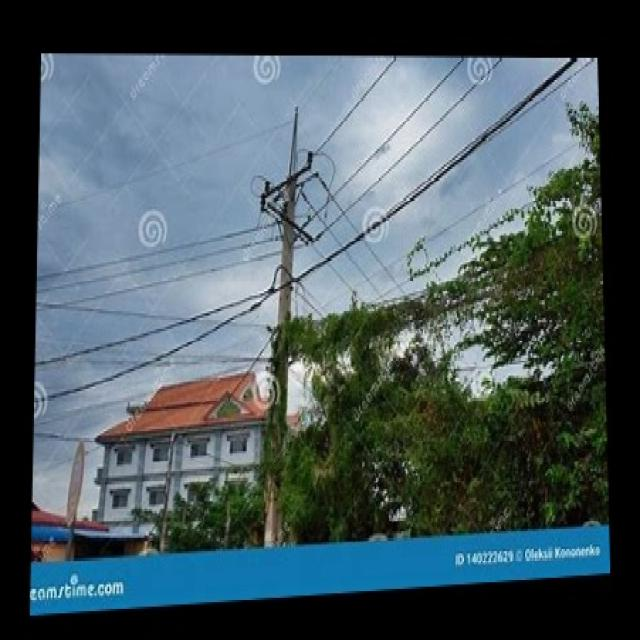critical vegetation: (263, 271, 603, 417)
